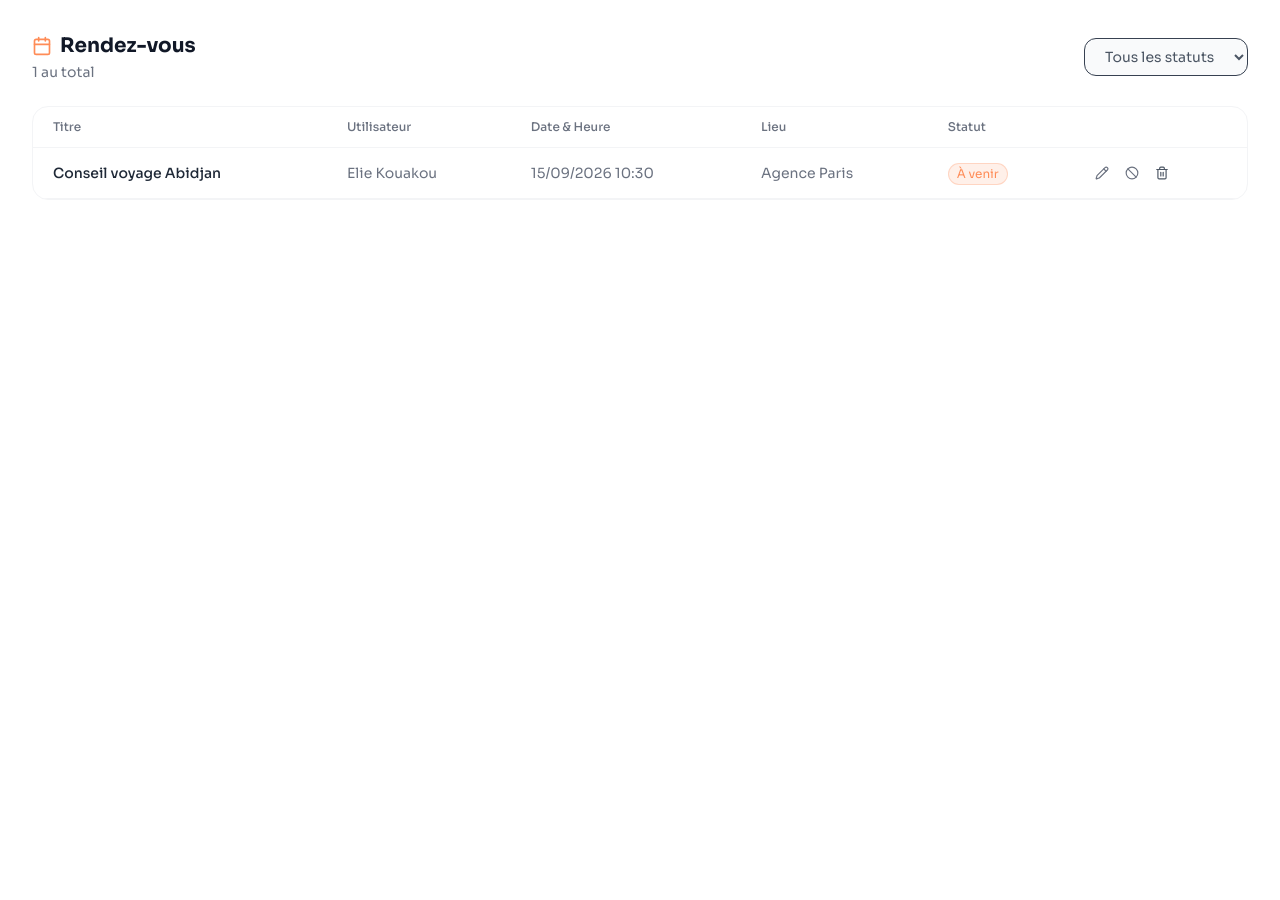
AdminAppointmentsPage › enregistre les modifications du rendez-vous
The width and height of the screenshot is (1280, 900).
Click the button titled "Modifier" at (1102,173), box [1089,160,1115,186]
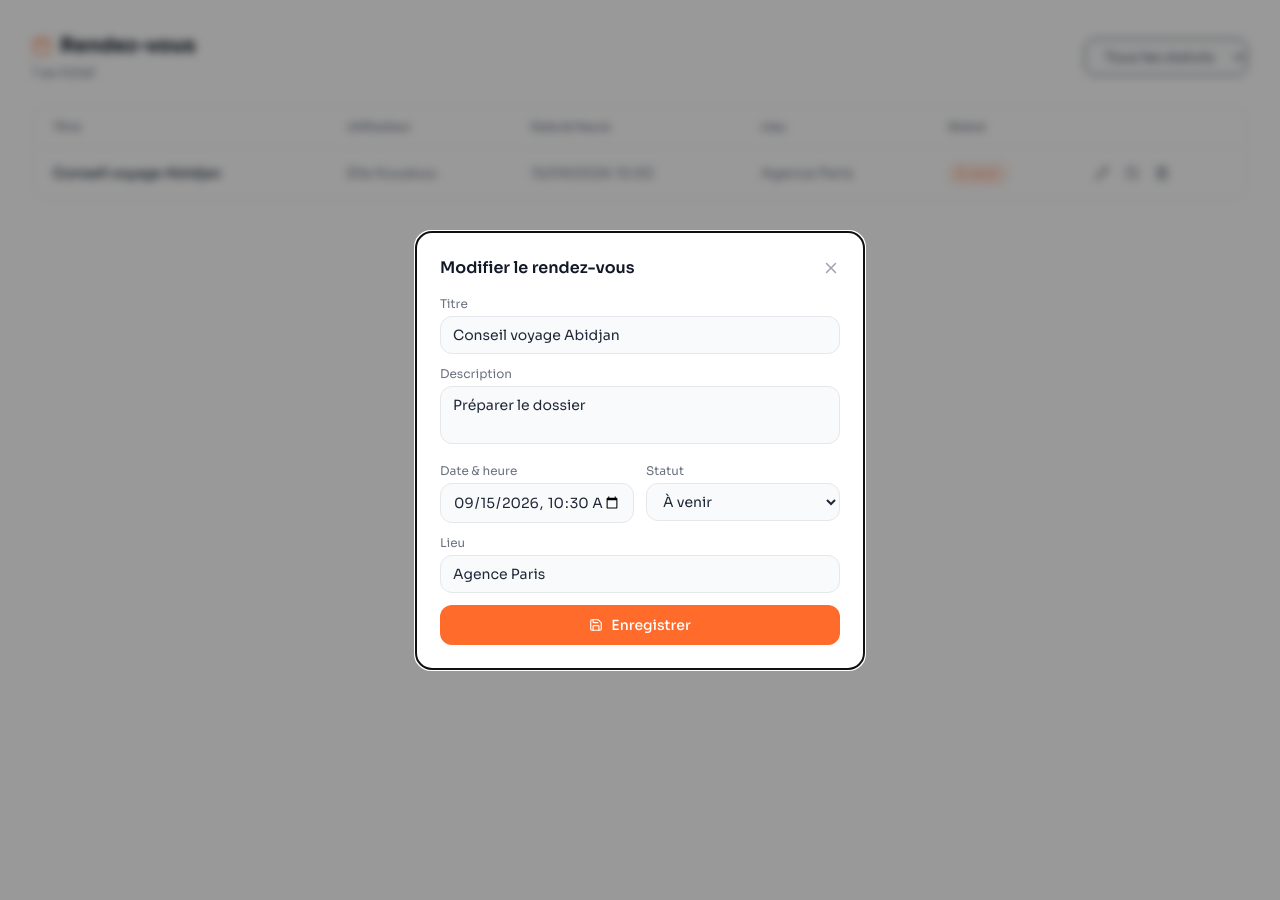
Replace the text in the 1st field showing "Conseil voyage Abidjan" with "Conseil voyage Dakar" at (640,334), box [440,316,840,354]
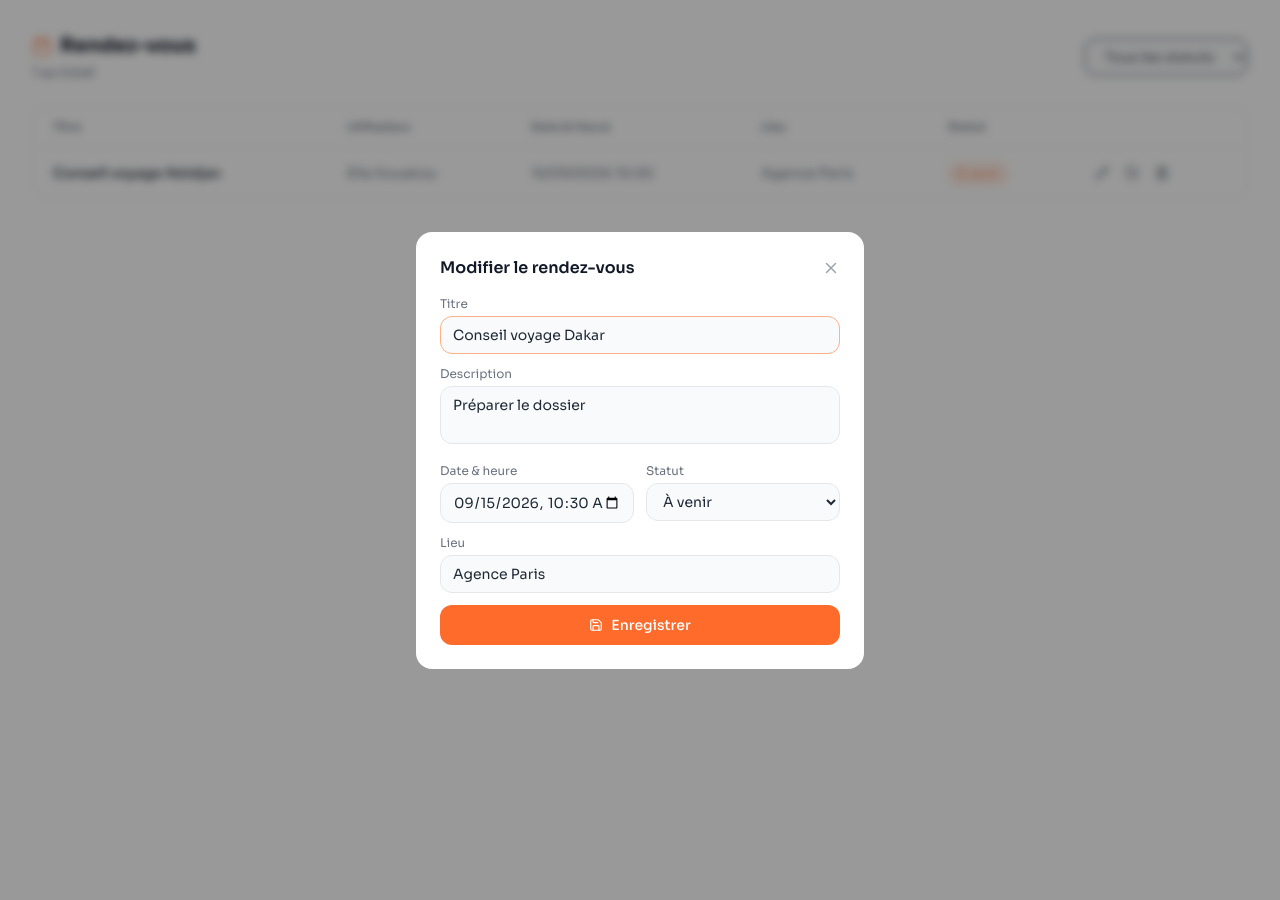
Click the button "Enregistrer" at (640,624), box [440,604,840,644]
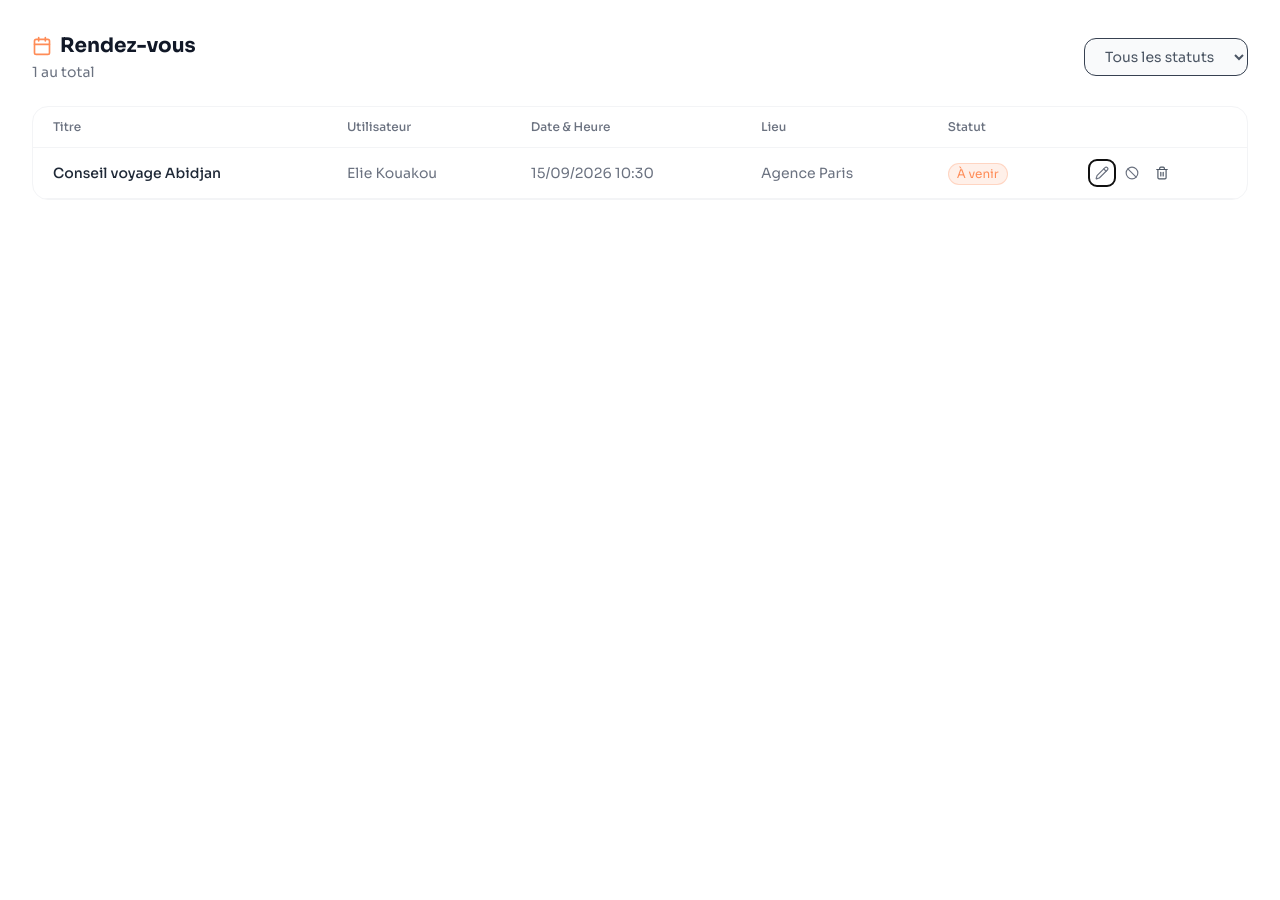
Expected: the dialog is gone
